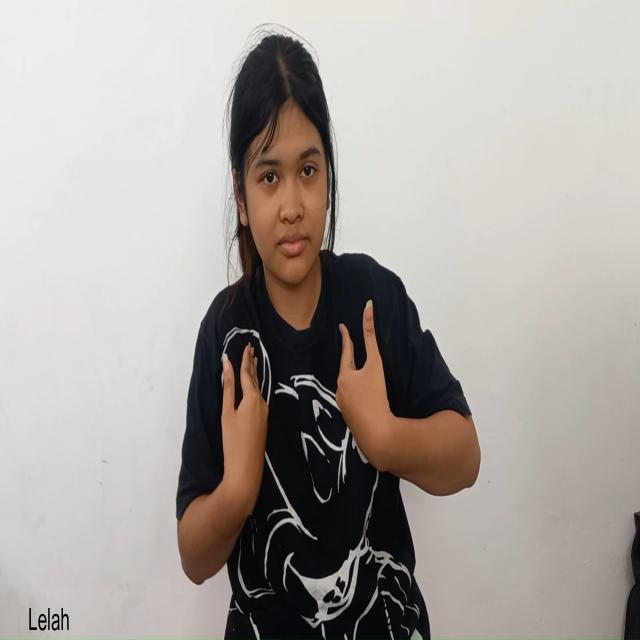Lelah -BISINDO-: (172, 289, 488, 589)
